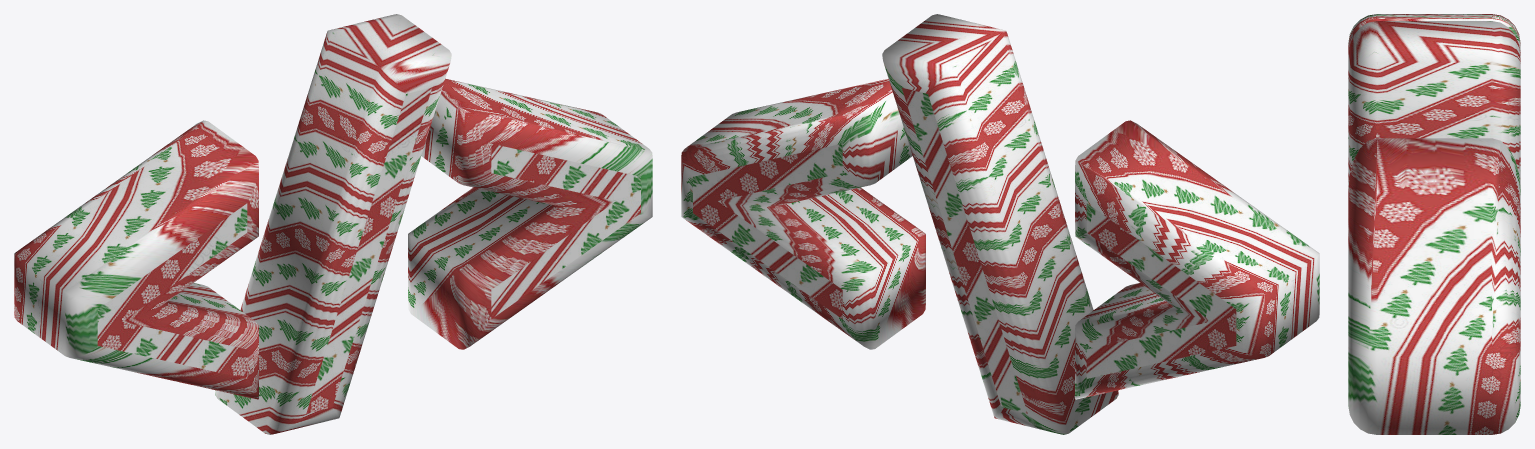
Rendered from code.glb.
3 renders of one model, left to right at view 1: azimuth 30°, elevation 25°; view 2: azimuth 150°, elevation 25°; view 3: azimuth 270°, elevation 25°, orthographic. The views are drawn at different scales.
Parts seen in each view (by area): view 1: code; view 2: code; view 3: code.
Part boxes in pixels (box(x1,y1,x2,y2)): code: box(14, 14, 652, 434); code: box(681, 14, 1319, 434); code: box(1348, 14, 1520, 434).
Bounding box in the file's own units: 1.42 × 0.7831 × 0.3.
1 material, 1 textured.
